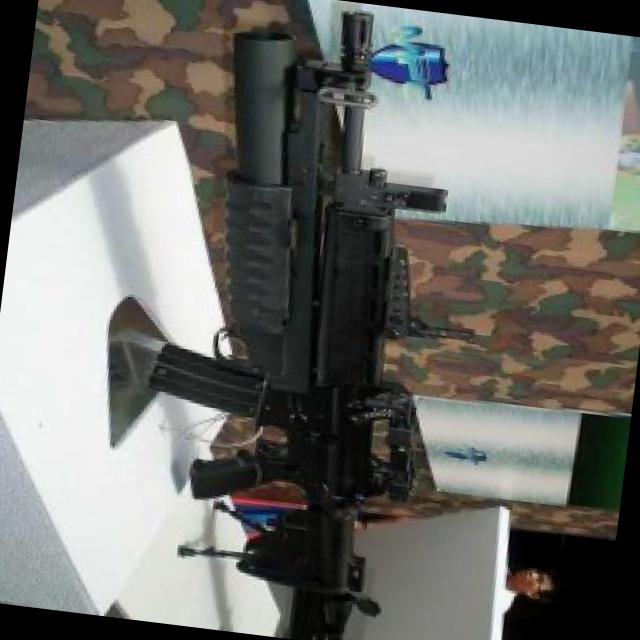long weapon: (136, 0, 469, 633)
